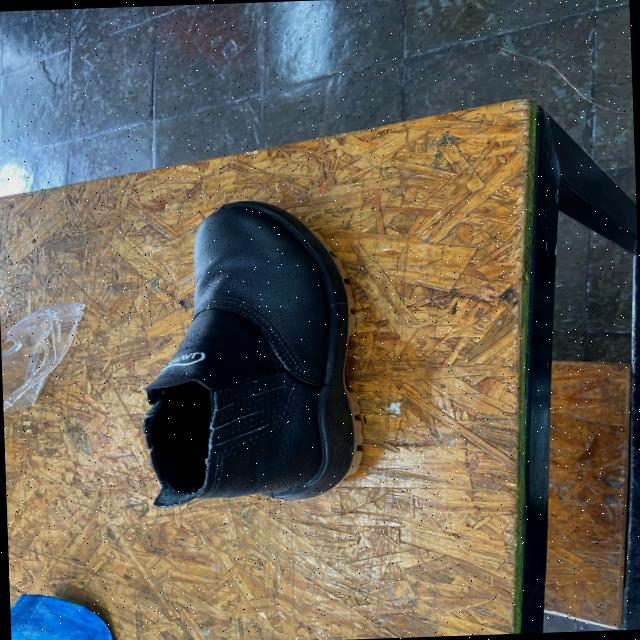BOTA: (140, 201, 365, 508)
